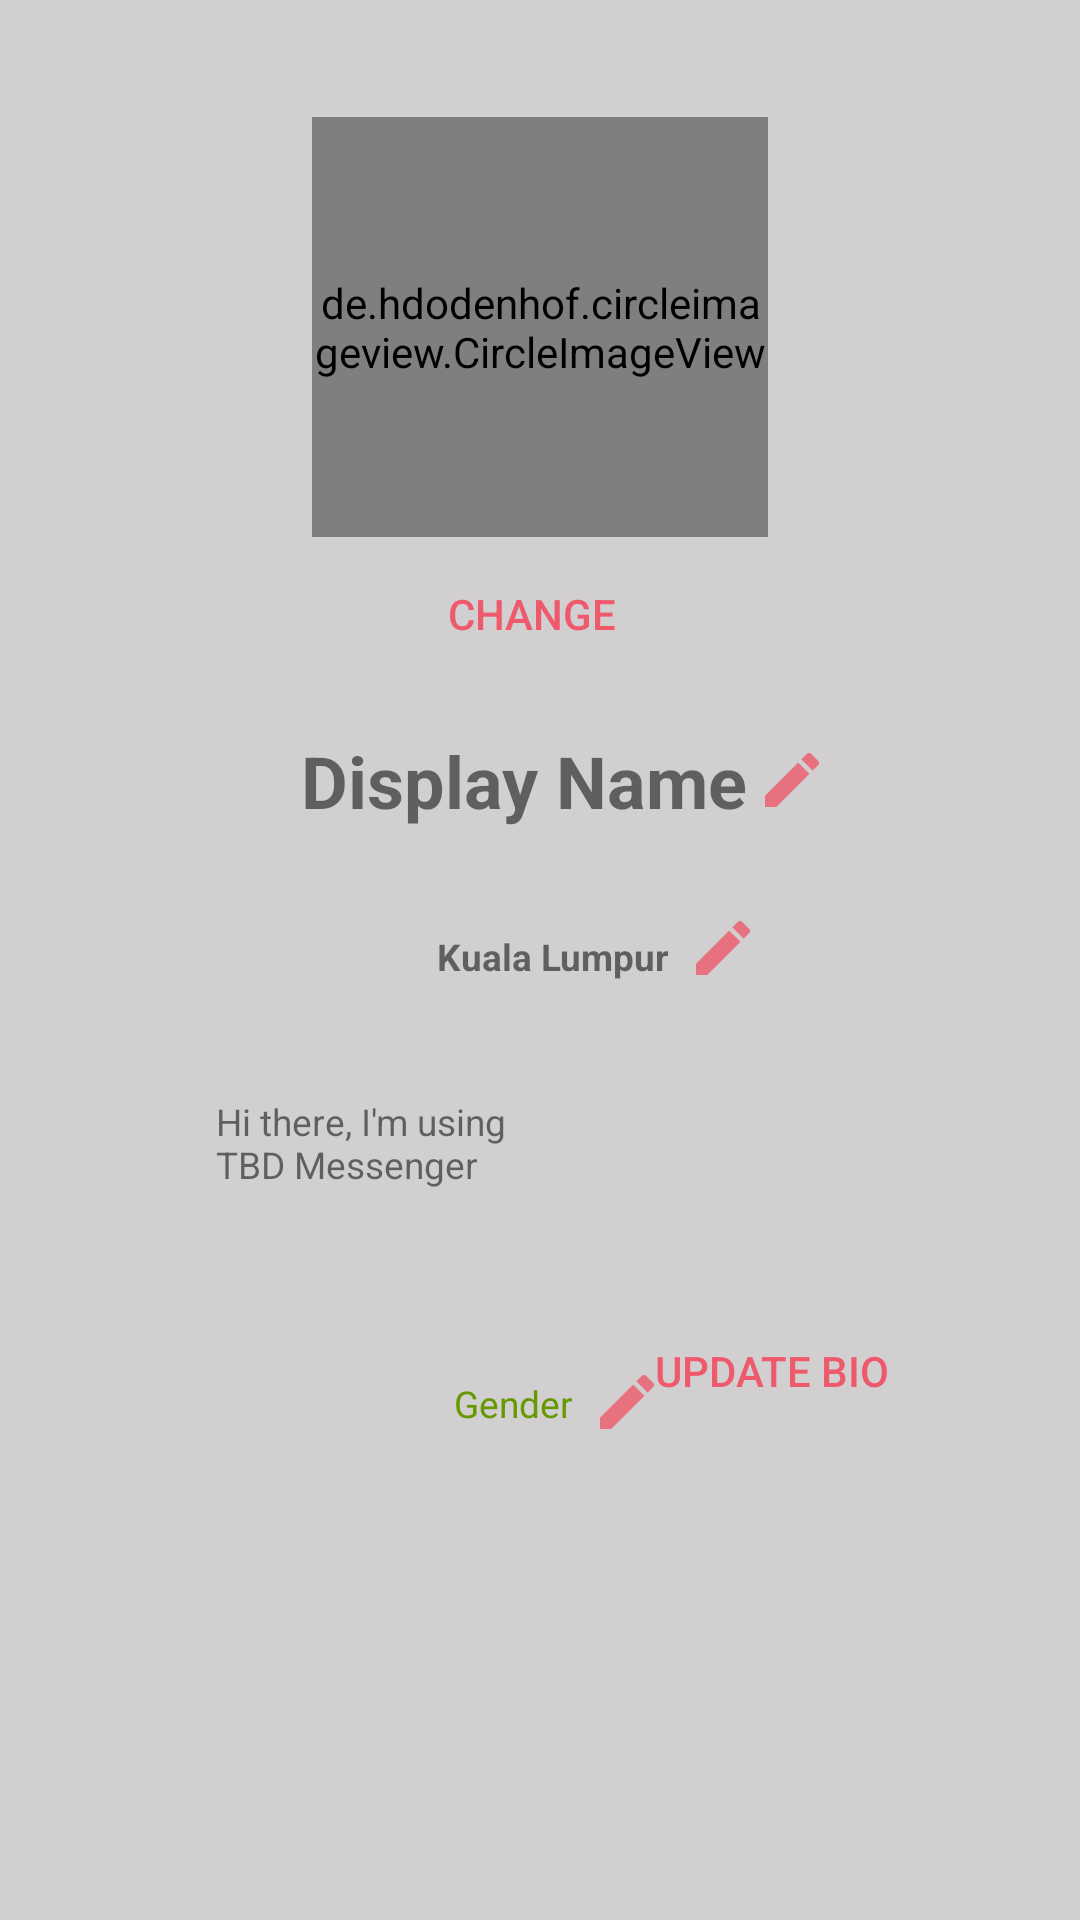

Screen size 1080×1920. Icon name, then its box in pixels as bbox=(x1, y1, x2, y2):
edit: bbox=(765, 753, 819, 807), bbox=(696, 921, 750, 975), bbox=(600, 1375, 654, 1429)
